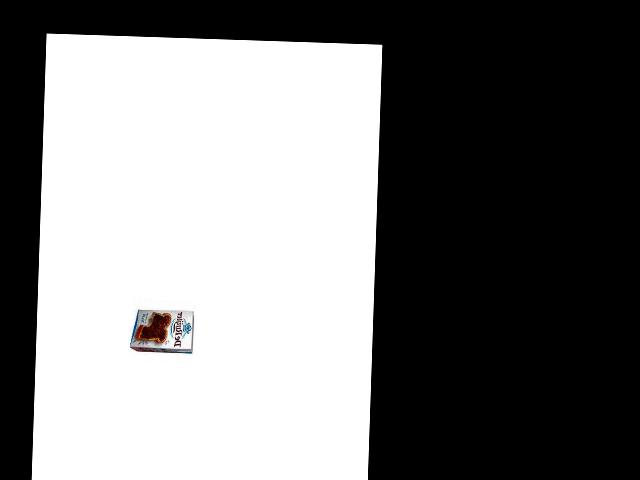chocolate: (131, 303, 197, 359)
